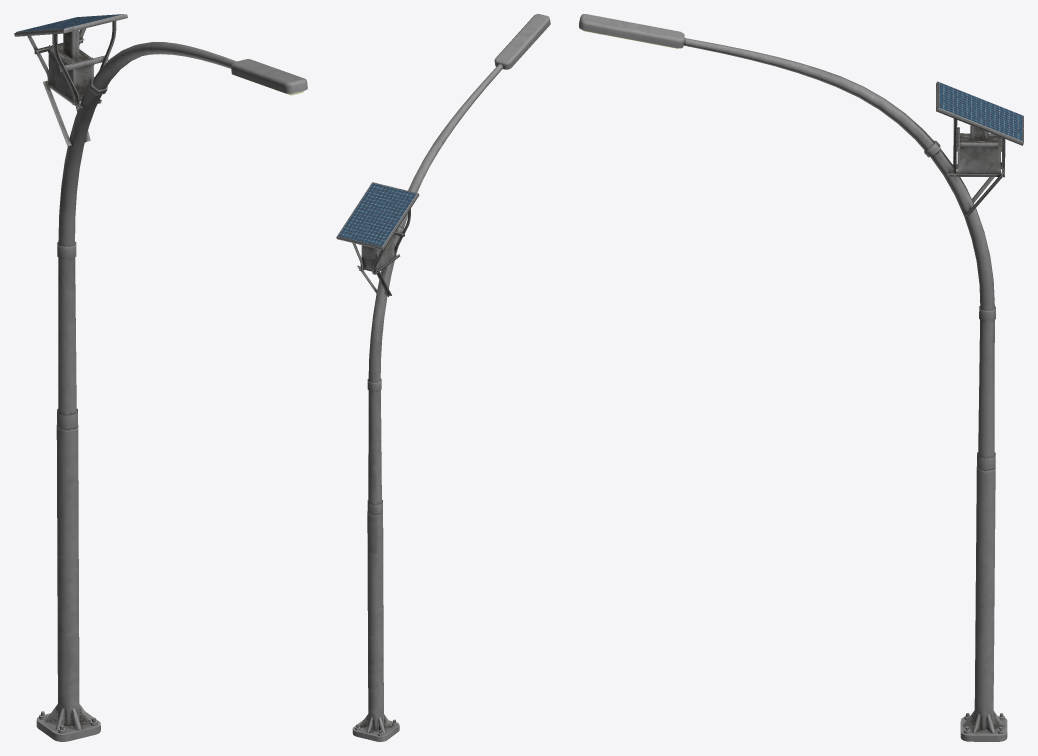
The model's file is svetilnik.glb.
3 renders of one model, left to right at view 1: azimuth 30°, elevation 25°; view 2: azimuth 150°, elevation 25°; view 3: azimuth 270°, elevation 25°, orthographic. The views are drawn at different scales.
Visible parts, largest first — view 1: StreetLampSingle; view 2: StreetLampSingle; view 3: StreetLampSingle.
Boxes of the visible parts, x1,y1,x2,y2 form: StreetLampSingle: [14, 14, 307, 741]; StreetLampSingle: [336, 14, 550, 741]; StreetLampSingle: [579, 14, 1023, 741].
Size of the model in its own units: 0.2901 by 3.54 by 2.
1 material, 1 textured.
